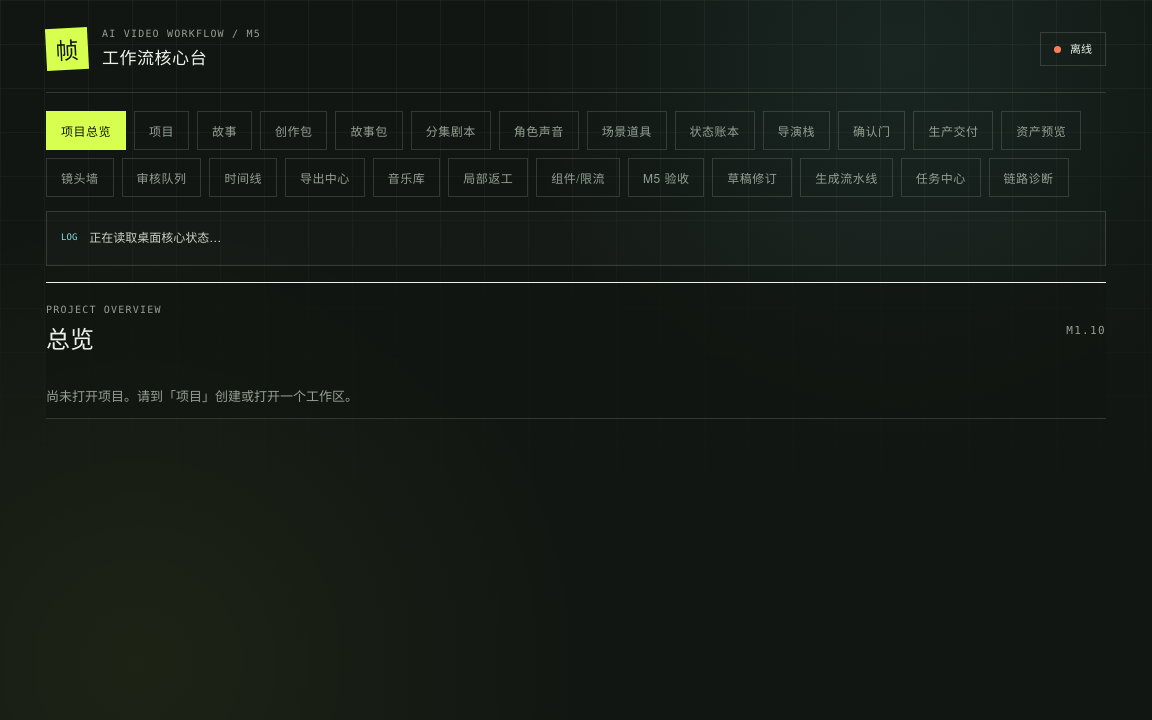
Scenario: M1 shell › shows empty states across shell views
Expected: the text "尚未打开项目。请到「项目」创建或打开一个工作区。" is shown, top-left (46, 386), bottom-right (358, 405)
Click the button "任务中心" at (941, 178), box top-left (901, 158), bottom-right (981, 197)
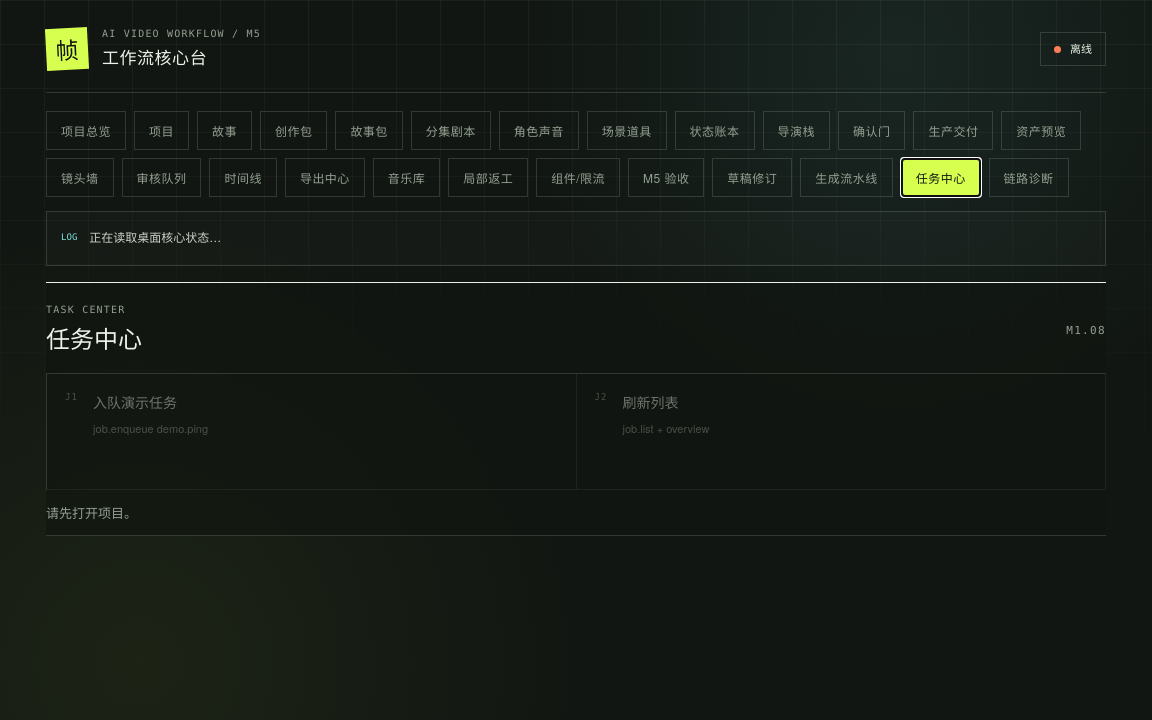
Expected: the text "请先打开项目。" is shown, top-left (46, 503), bottom-right (137, 522)
Click the button "项目" at (162, 130), box top-left (134, 111), bottom-right (189, 150)
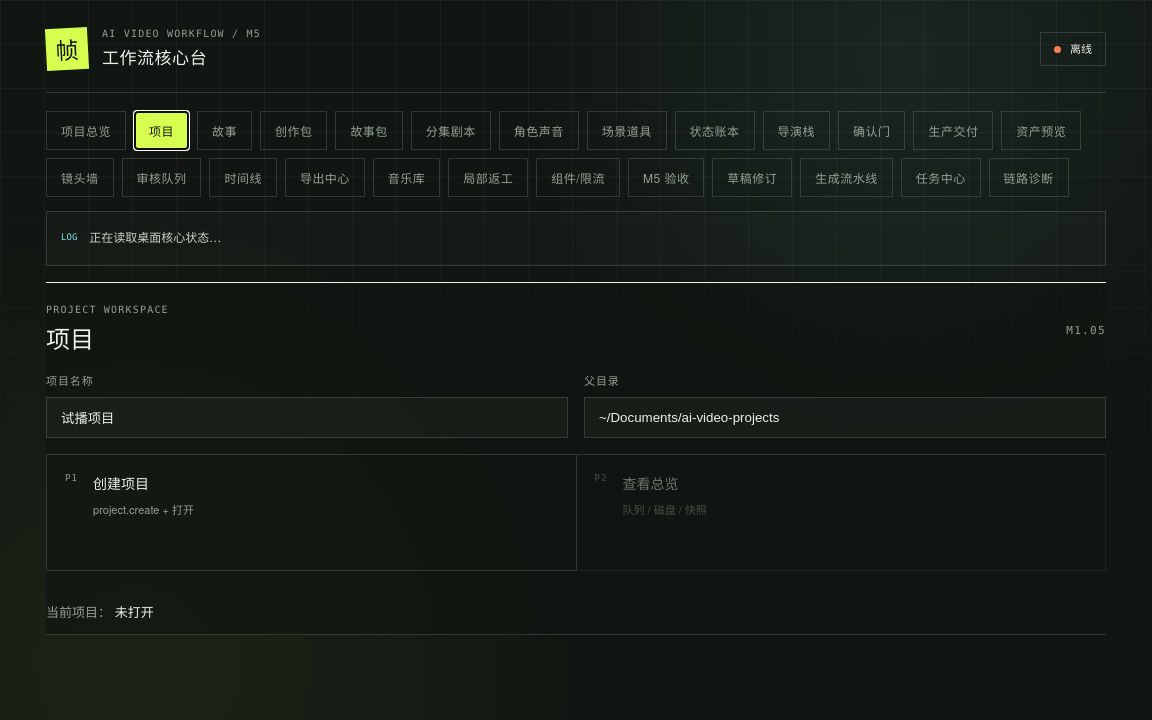
Expected: the heading "项目" is shown, top-left (46, 328), bottom-right (94, 354)
